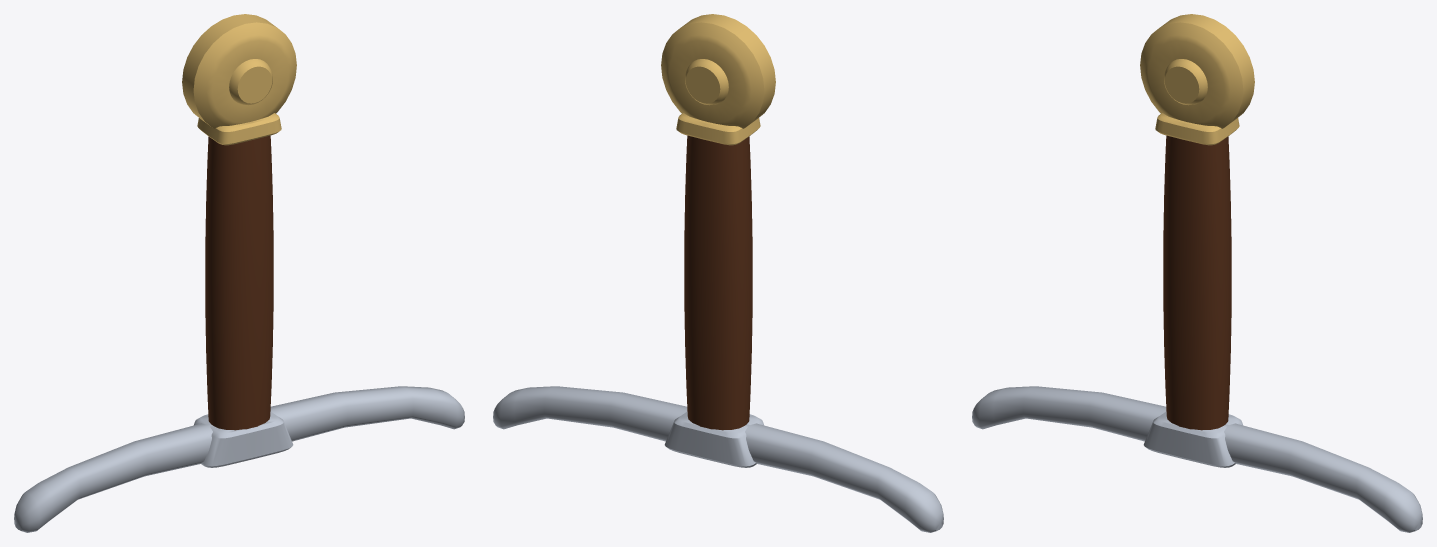
Rendered from FalchionHiltGame.fbx.
3 renders of one model, left to right at view 1: azimuth 30°, elevation 25°; view 2: azimuth 150°, elevation 25°; view 3: azimuth 330°, elevation 25°, orthographic.
Visible parts, largest first — view 1: Grip, Guard, Pommel; view 2: Grip, Guard, Pommel; view 3: Grip, Guard, Pommel.
Part boxes in pixels (x1,y1,x2,y2): Grip: [205, 135, 273, 430]; Guard: [14, 386, 464, 532]; Pommel: [182, 14, 296, 145]; Grip: [684, 135, 752, 430]; Guard: [493, 386, 943, 532]; Pommel: [661, 14, 775, 145]; Grip: [1163, 135, 1231, 430]; Guard: [972, 386, 1422, 532]; Pommel: [1140, 14, 1254, 145].
Size of the model in its own units: 1.16 by 1.14 by 0.14.
